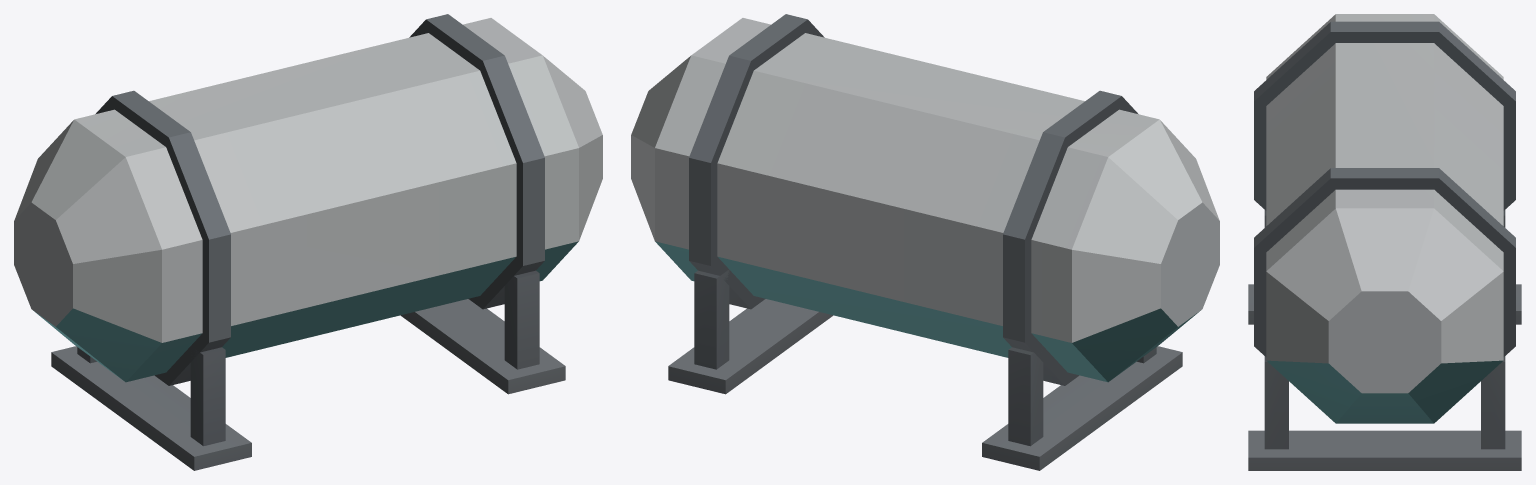
Rendered from htank.lod2.glb.
The picture shows the model from 3 angles, left to right: view 1: azimuth 30°, elevation 25°; view 2: azimuth 150°, elevation 25°; view 3: azimuth 270°, elevation 25°; orthographic projection. The views are drawn at different scales.
Size of the model in its own units: 4.32 by 2.32 by 2.02.
